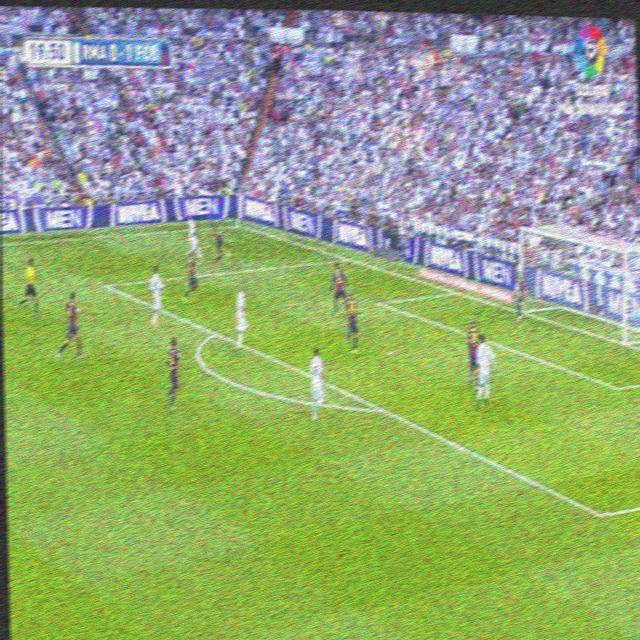bigarea_bottom_inner: (594, 501, 607, 527)
bottom_arc_area_intersection: (373, 397, 386, 417)
corner: (233, 217, 243, 230)
top_arc_area_intersection: (209, 323, 219, 341)
